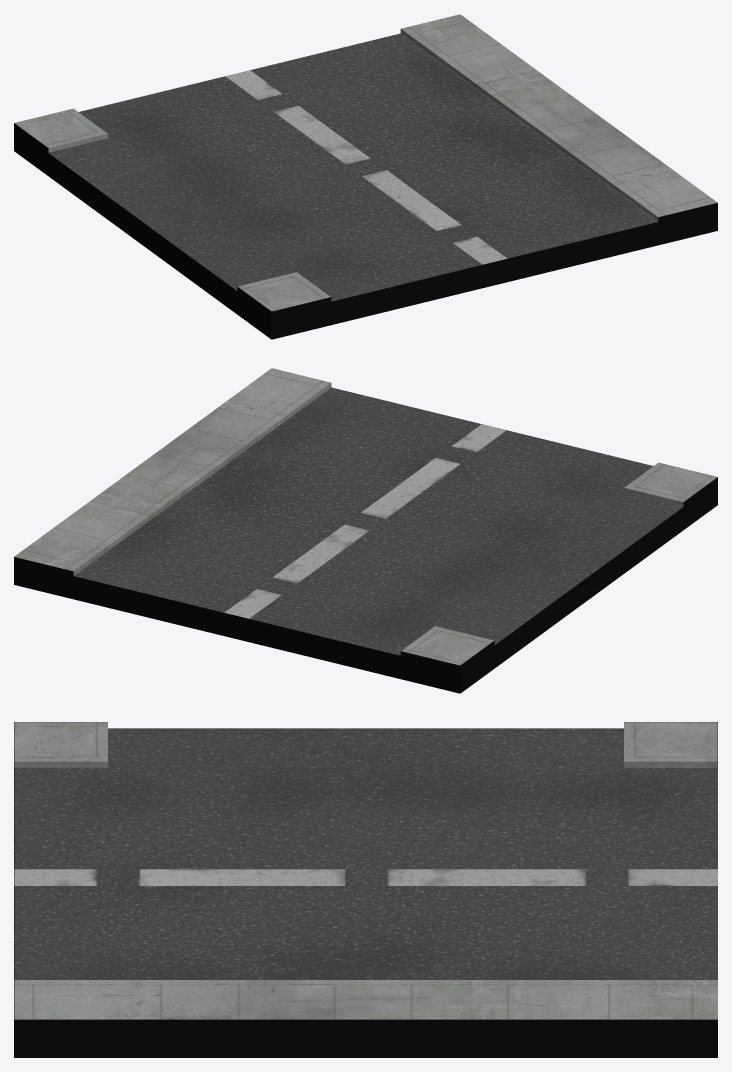
File: street_sideOBJ.fbx
3 views of the same model, one above another, from view 1: azimuth 30°, elevation 25°; view 2: azimuth 150°, elevation 25°; view 3: azimuth 270°, elevation 25° (orthographic). The views are drawn at different scales.
Visible parts, largest first — view 1: side; view 2: side; view 3: side.
Boxes of the visible parts, x1,y1,x2,y2 form: side: (14,14,717,339); side: (14,368,717,693); side: (14,722,717,1057).
Size of the model in its own units: 10 by 0.6 by 10.
